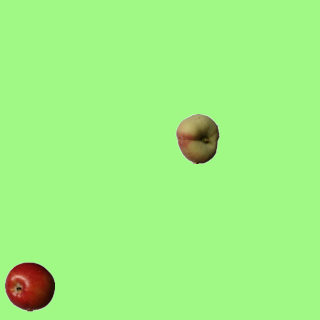Apple Braeburn: (4, 261, 54, 311)
Peach Flat: (172, 113, 222, 163)
